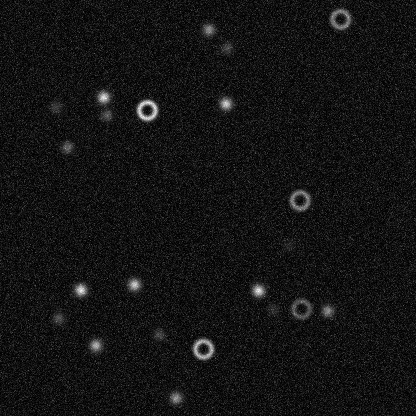Ring: (328, 6, 352, 30), (191, 336, 215, 360), (289, 296, 313, 320), (287, 188, 311, 212), (135, 98, 159, 122)
Spot: (150, 326, 166, 342), (98, 106, 114, 122), (126, 276, 142, 292), (72, 281, 88, 297), (264, 301, 280, 317), (47, 99, 63, 115), (319, 302, 335, 318), (217, 95, 233, 111), (59, 138, 75, 154), (281, 237, 297, 253), (87, 337, 103, 353), (200, 21, 216, 37), (167, 389, 183, 405), (218, 39, 234, 55), (250, 282, 266, 298), (50, 310, 66, 326), (95, 89, 111, 105)
